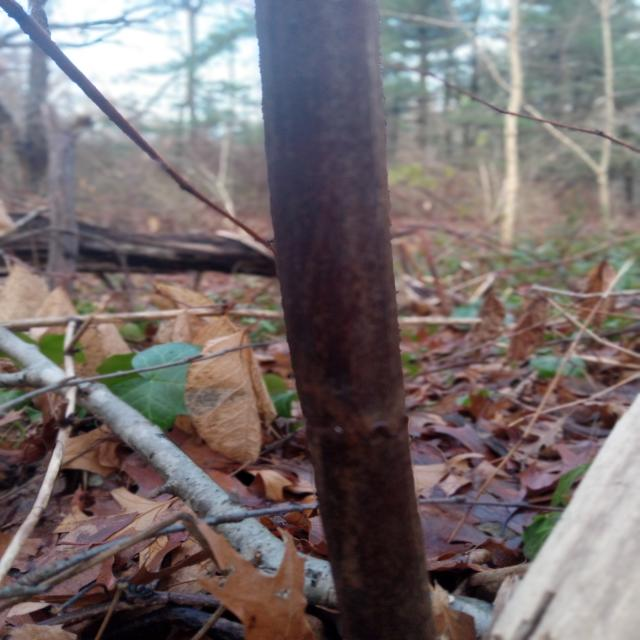knotweed-stems: (252, 0, 438, 639)
